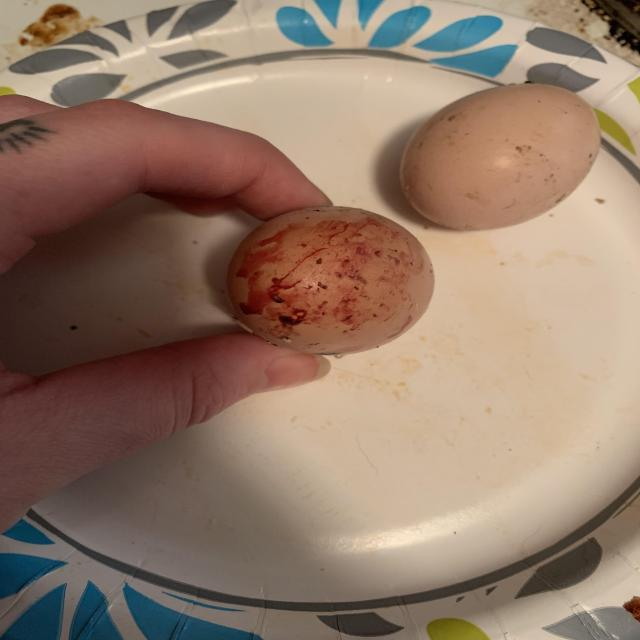Blood Stained Egg: (210, 207, 442, 361)
Dirt Stained Egg: (393, 73, 608, 228)
